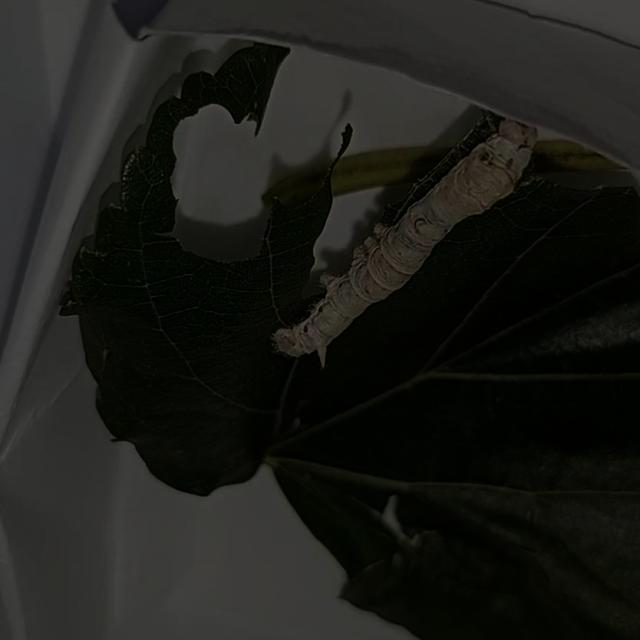Healthy: (232, 80, 557, 373)
